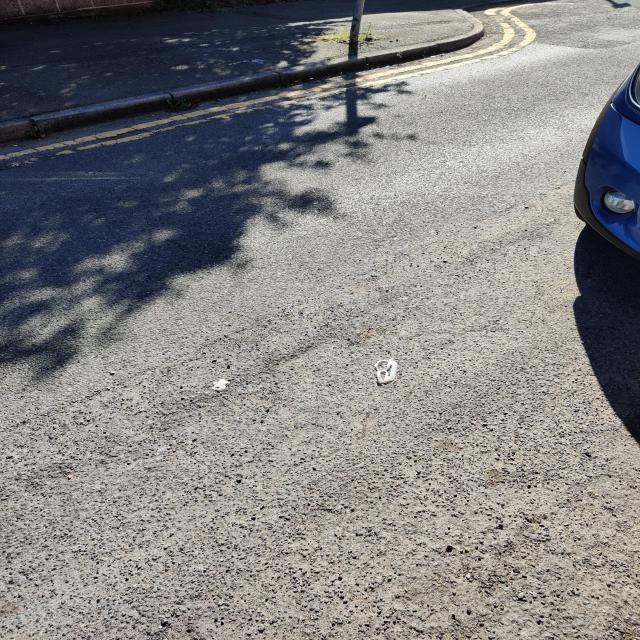litter: (374, 358, 398, 384)
